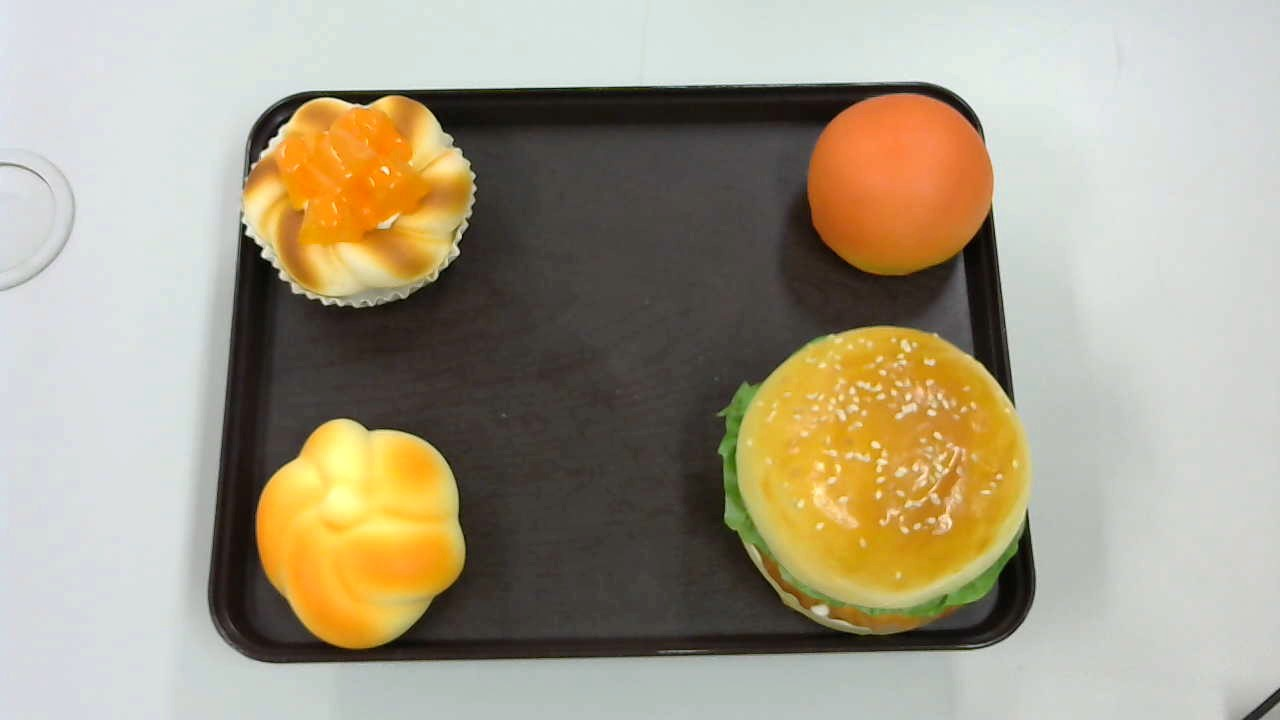bun: (804, 91, 995, 278)
hamburger: (721, 324, 1032, 636)
mango tart: (241, 96, 480, 306)
twist bread: (253, 418, 467, 650)
